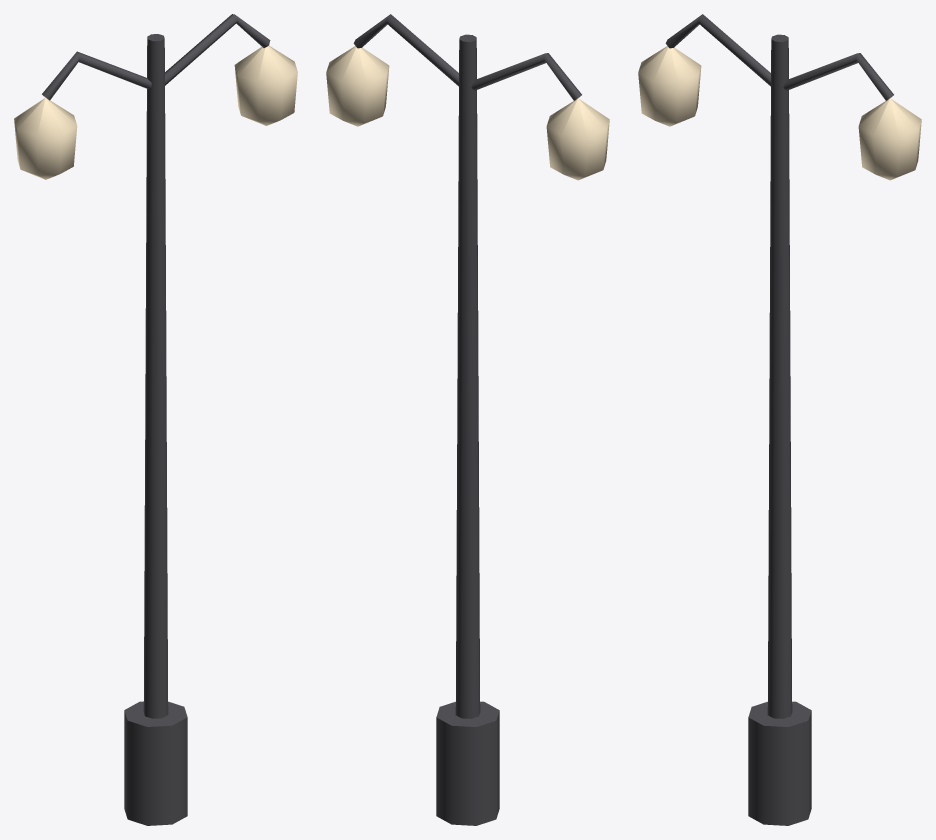
File: SM_LampClassic.fbx
3 views of the same model, side by side, from view 1: azimuth 30°, elevation 25°; view 2: azimuth 150°, elevation 25°; view 3: azimuth 330°, elevation 25° (orthographic).
Parts seen in each view (by area): view 1: SM_LampClassic; view 2: SM_LampClassic; view 3: SM_LampClassic.
Boxes of the visible parts, x1,y1,x2,y2 form: SM_LampClassic: (14,14,297,825); SM_LampClassic: (326,14,609,825); SM_LampClassic: (638,14,921,825).
Size of the model in its own units: 176 by 473 by 36.
